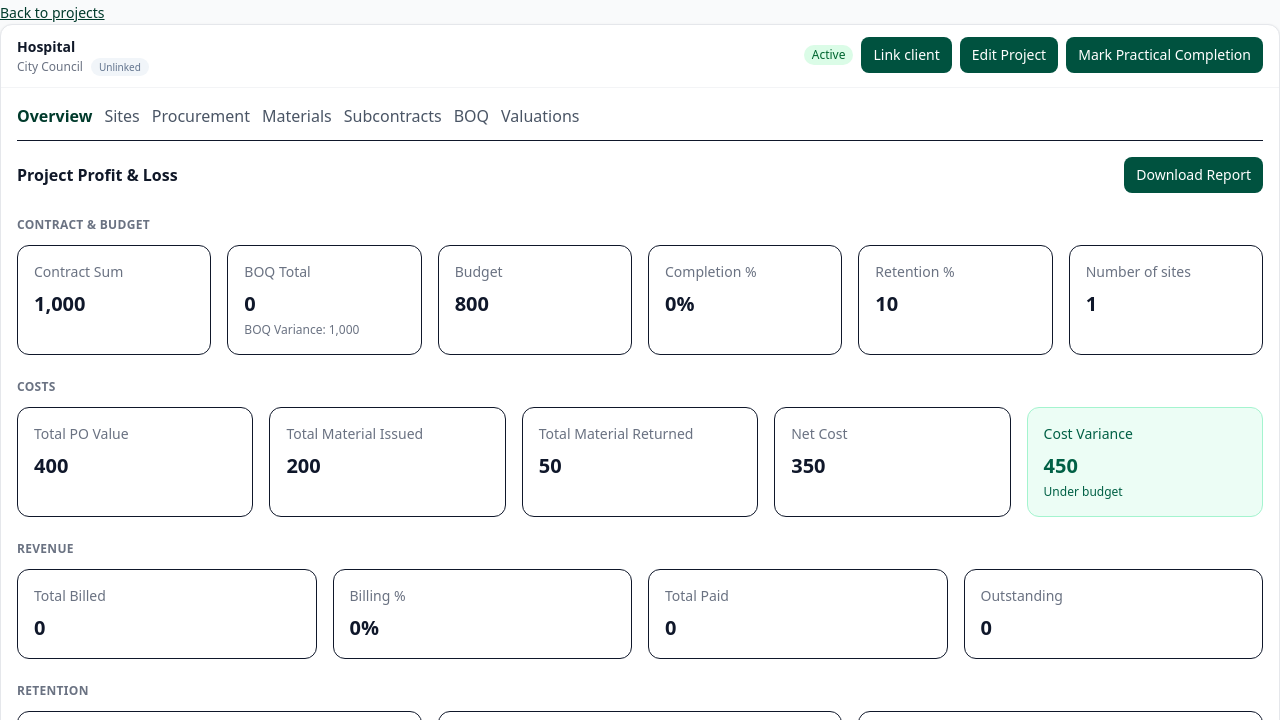
it: project detail › does not expose manual release before practical completion
The image size is (1280, 720).
Click the tab "Valuations".
click(540, 116)  # box [501, 104, 580, 128]
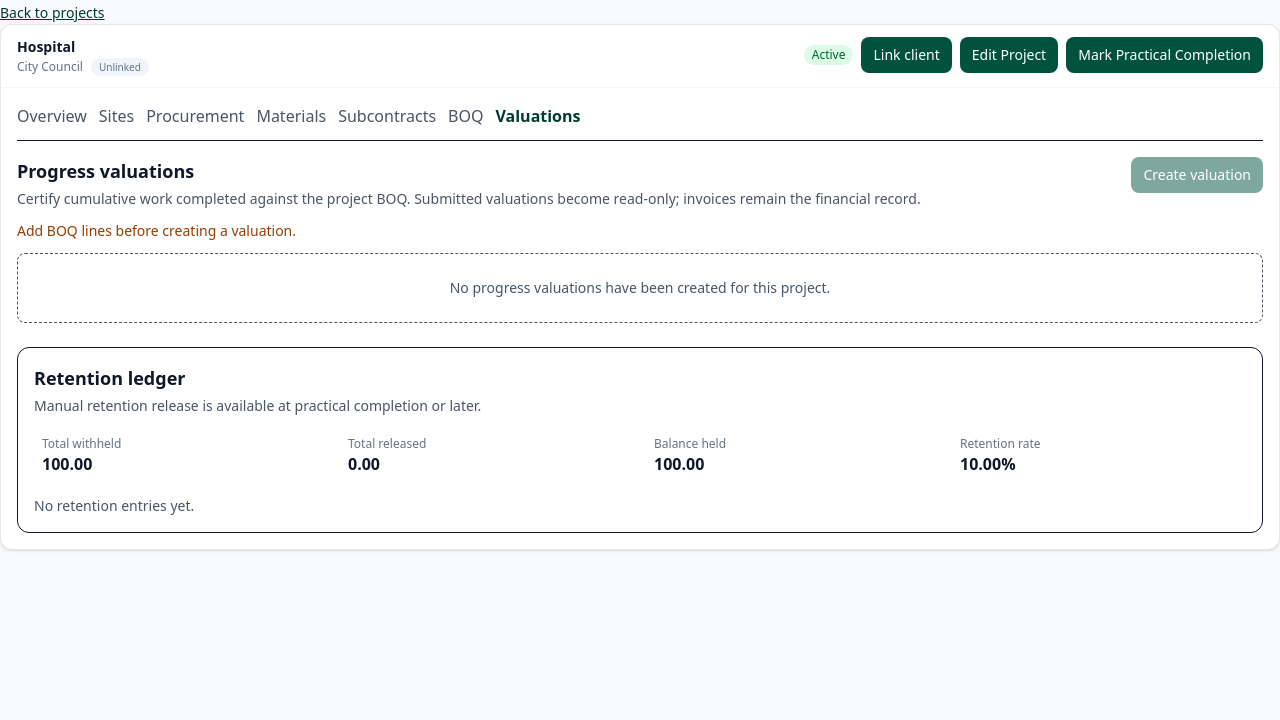
Expected: the text "Manual retention release is available at practical completion or later." is shown, [34, 396, 481, 415]
